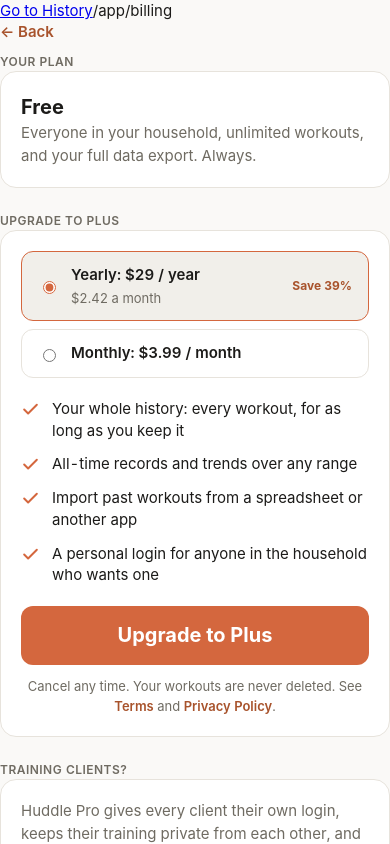
it: BillingTab › does not pull the person back to Billing when the reconcile finishes after they have left
What coordinates should you click on to do the following:
click the link "Go to History"
I would click on:
 (46, 10)
Its box is [0,1,93,20].
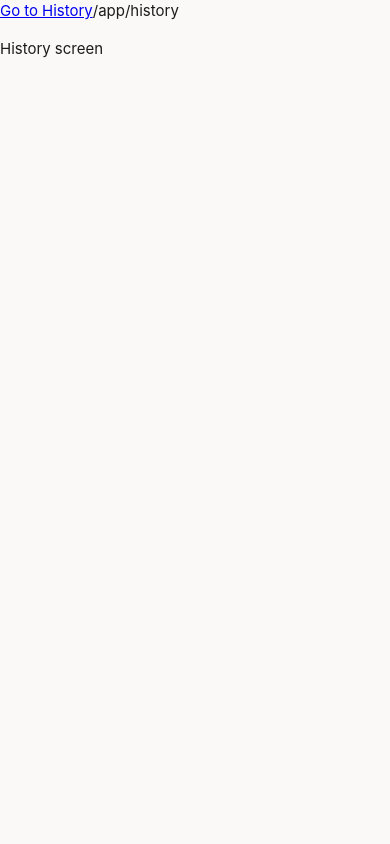
Expected: the text with test id "where" reads "/app/history", [93,1,179,20]
Expected: the text "History screen" is shown, [0,38,103,58]
